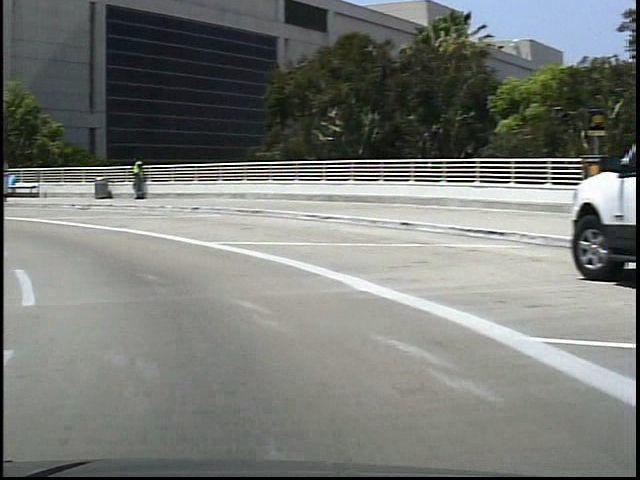person: (123, 154, 142, 203)
